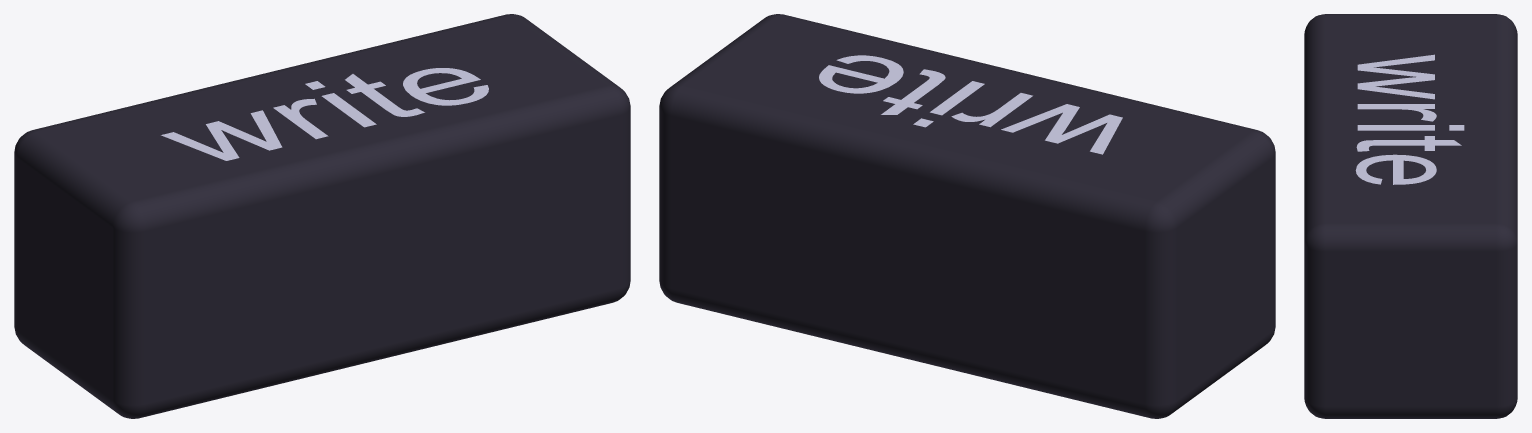
File: write.glb
The picture shows the model from 3 angles, left to right: view 1: azimuth 30°, elevation 25°; view 2: azimuth 150°, elevation 25°; view 3: azimuth 270°, elevation 25°; orthographic projection. The views are drawn at different scales.
Visible parts, largest first — view 1: Cut, Extrude; view 2: Cut, Extrude; view 3: Cut, Extrude.
Part boxes in pixels (x1,y1,x2,y2): Cut: (14, 14, 630, 418); Extrude: (161, 68, 488, 160); Cut: (659, 14, 1275, 418); Extrude: (819, 55, 1122, 154); Cut: (1304, 14, 1517, 418); Extrude: (1355, 54, 1464, 184).
Size of the model in its own units: 5 by 2 by 2.
